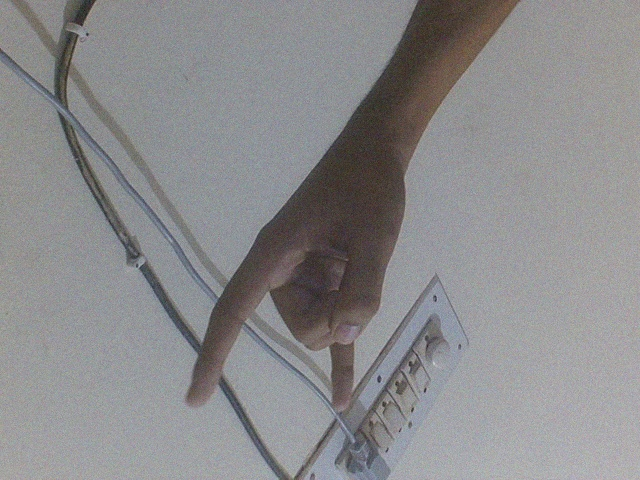hand: (182, 122, 413, 417)
